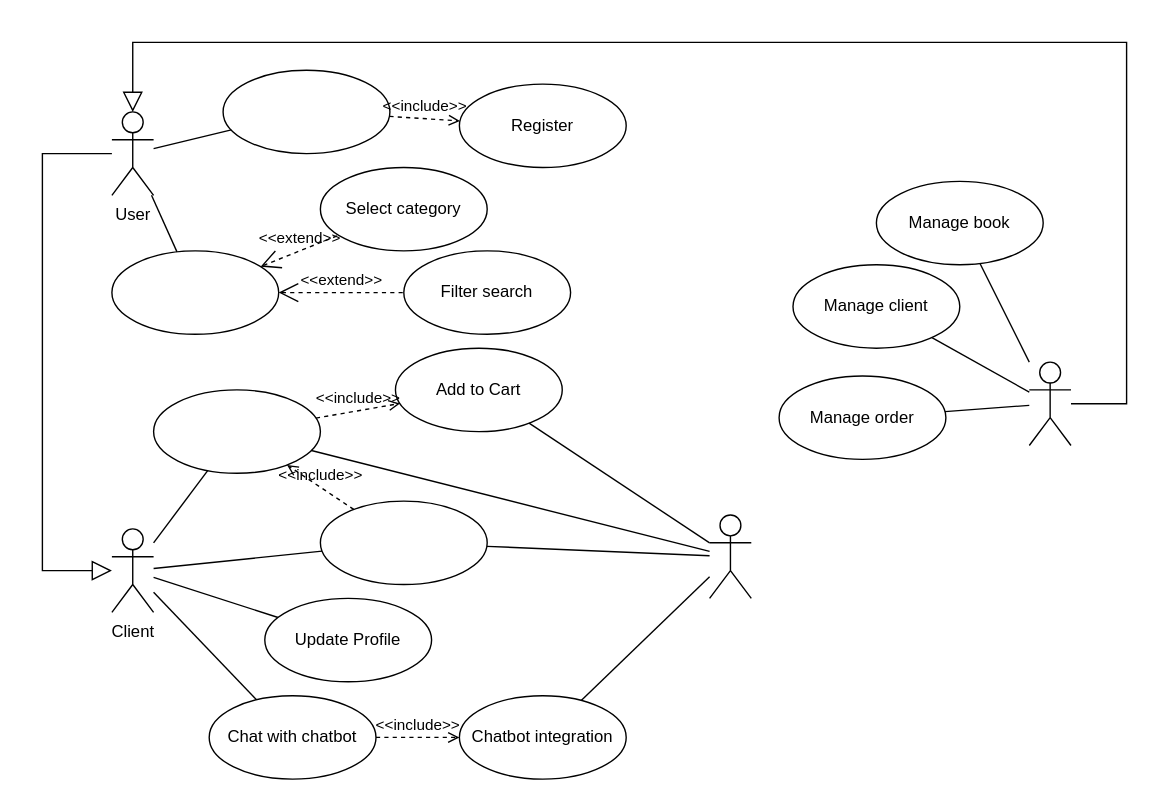
This 1170x803 diagram has some shape labels left out. Here are the shapes that lost their labels. From the top down, the centre of each, then its label:
At (x=306, y=111): "Login".
At (x=195, y=292): "Search book".
At (x=1049, y=403): "Admin".
At (x=236, y=431): "Place Order".
At (x=403, y=542): "Create Payment".
At (x=729, y=556): "Chatbot system".
